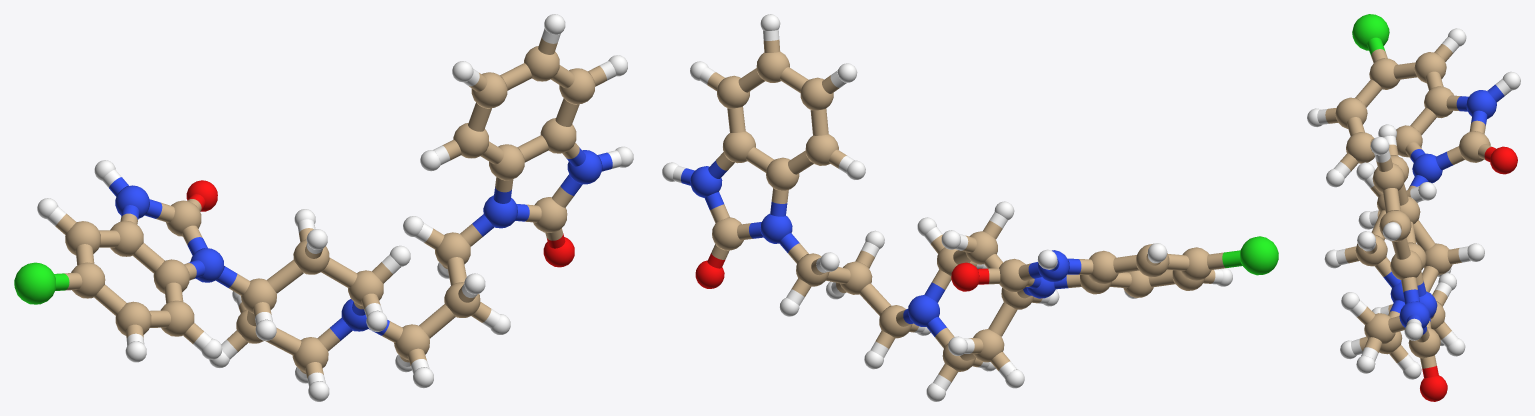
File: domperidon.fbx
3 renders of one model, left to right at view 1: azimuth 30°, elevation 25°; view 2: azimuth 150°, elevation 25°; view 3: azimuth 270°, elevation 25°, orthographic. The views are drawn at different scales.
Visible parts, largest first — view 1: subnode_0, subnode_24, subnode_29, subnode_26, subnode_28, subnode_27, subnode_21, subnode_23, subnode_18, subnode_19, subnode_15, subnode_22 (+19 smaller); view 2: subnode_0, subnode_21, subnode_26, subnode_28, subnode_29, subnode_27, subnode_24, subnode_23, subnode_3, subnode_18, subnode_6, subnode_16 (+10 smaller); view 3: subnode_0, subnode_25, subnode_19, subnode_20, subnode_16, subnode_22, subnode_24, subnode_18, subnode_29, subnode_14, subnode_1, subnode_4 (+50 smaller).
Part boxes in pixels (x1=…): subnode_0: x1=14, y1=262, x2=55, y2=304; subnode_24: x1=540, y1=118, x2=576, y2=153; subnode_29: x1=524, y1=46, x2=559, y2=81; subnode_26: x1=453, y1=123, x2=488, y2=158; subnode_28: x1=471, y1=72, x2=507, y2=108; subnode_27: x1=559, y1=68, x2=595, y2=104; subnode_21: x1=489, y1=144, x2=524, y2=180; subnode_23: x1=533, y1=197, x2=567, y2=232; subnode_18: x1=110, y1=220, x2=143, y2=256; subnode_19: x1=160, y1=300, x2=194, y2=336; subnode_15: x1=153, y1=259, x2=189, y2=293; subnode_22: x1=115, y1=301, x2=151, y2=335; subnode_0: x1=1240, y1=236, x2=1278, y2=275; subnode_21: x1=766, y1=157, x2=799, y2=190; subnode_26: x1=805, y1=134, x2=838, y2=165; subnode_28: x1=800, y1=77, x2=833, y2=110; subnode_29: x1=756, y1=51, x2=789, y2=82; subnode_27: x1=717, y1=75, x2=750, y2=108; subnode_24: x1=723, y1=131, x2=755, y2=163; subnode_23: x1=712, y1=217, x2=743, y2=250; subnode_3: x1=908, y1=295, x2=939, y2=326; subnode_18: x1=1088, y1=250, x2=1118, y2=284; subnode_6: x1=760, y1=213, x2=792, y2=243; subnode_16: x1=999, y1=258, x2=1029, y2=292; subnode_0: x1=1352, y1=14, x2=1389, y2=50; subnode_25: x1=1369, y1=58, x2=1399, y2=89; subnode_19: x1=1346, y1=132, x2=1374, y2=163; subnode_20: x1=1414, y1=52, x2=1446, y2=83; subnode_16: x1=1459, y1=131, x2=1490, y2=162; subnode_22: x1=1335, y1=97, x2=1367, y2=128; subnode_24: x1=1390, y1=250, x2=1422, y2=279; subnode_18: x1=1424, y1=86, x2=1453, y2=118; subnode_29: x1=1372, y1=163, x2=1404, y2=192; subnode_14: x1=1364, y1=313, x2=1395, y2=344; subnode_1: x1=1490, y1=146, x2=1517, y2=174; subnode_4: x1=1412, y1=153, x2=1442, y2=183.
Size of the model in its own units: 17.17 by 8.74 by 5.65.
